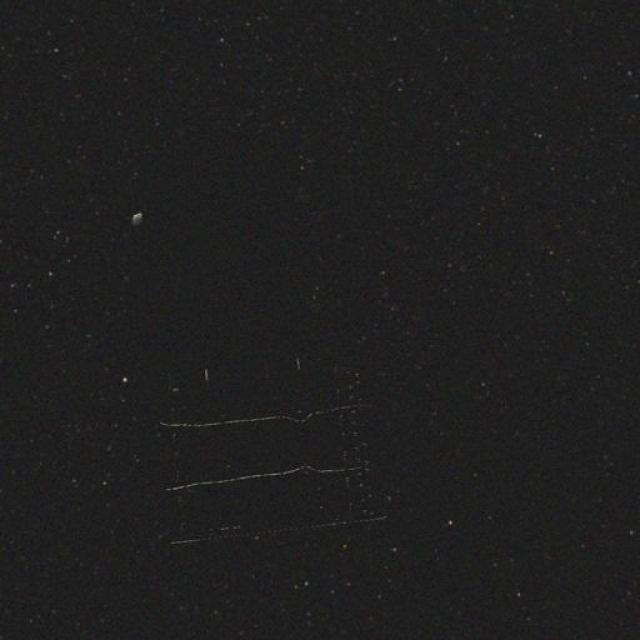proba_3_csc: (120, 349, 400, 551)
